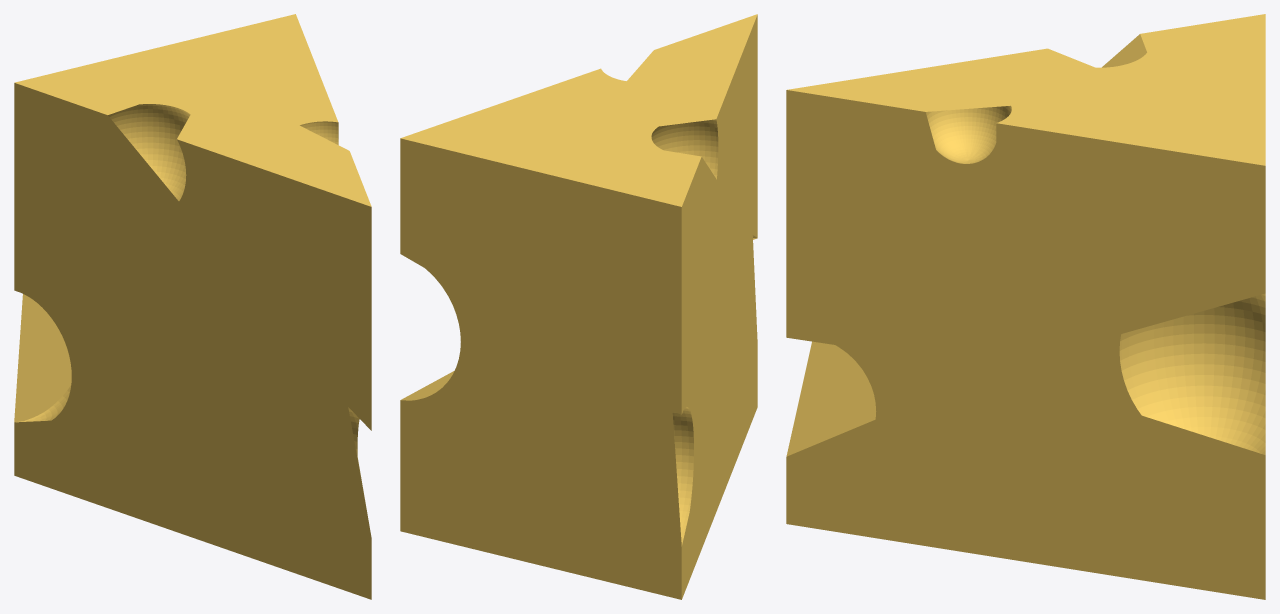
Rendered from Cheese.fbx.
3 renders of one model, left to right at view 1: azimuth 30°, elevation 25°; view 2: azimuth 150°, elevation 25°; view 3: azimuth 270°, elevation 25°, orthographic. The views are drawn at different scales.
Parts seen in each view (by area): view 1: Cheese; view 2: Cheese; view 3: Cheese.
Boxes of the visible parts, left/top/right/bottom form: Cheese: left=14, top=14, right=371, bottom=599; Cheese: left=400, top=14, right=757, bottom=599; Cheese: left=786, top=14, right=1265, bottom=599.
Bounding box in the file's own units: 15 × 20 × 20.
